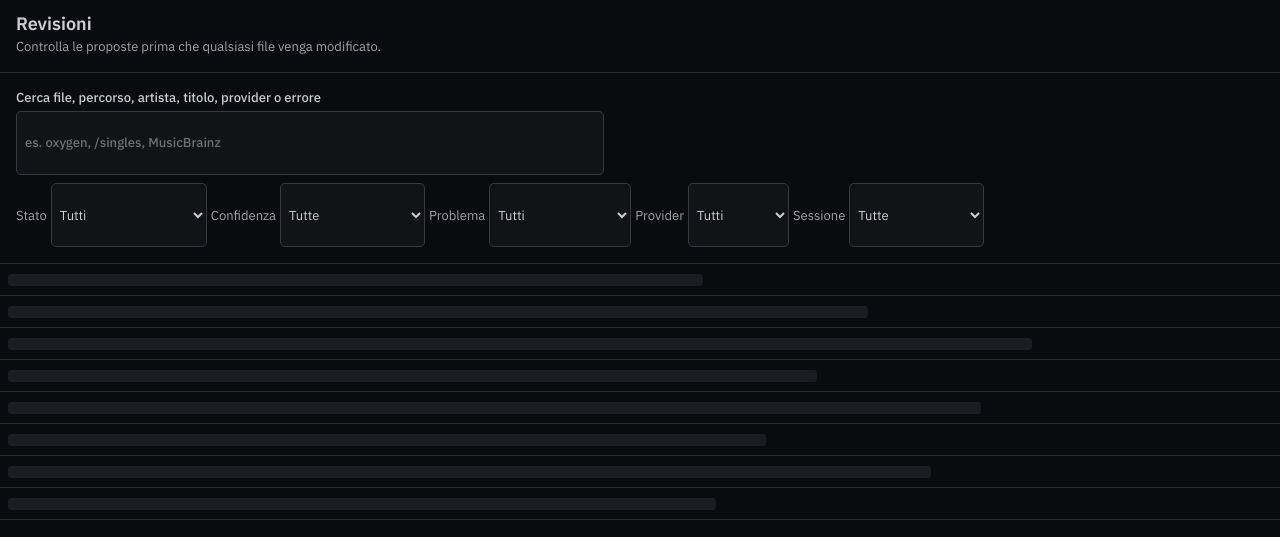
Test: ReviewInbox › exposes confidence, issue, source and session filters with URL state and chips
The width and height of the screenshot is (1280, 537).
Check: the dropdown labelled "Problema" is shown, box [489,183,631,247]
Check: the dropdown labelled "Provider" is shown, box [688,183,789,247]
Step 1. Select "High confidence" in the dropdown labelled "Confidenza" → (352, 215), box [280,183,425,247]
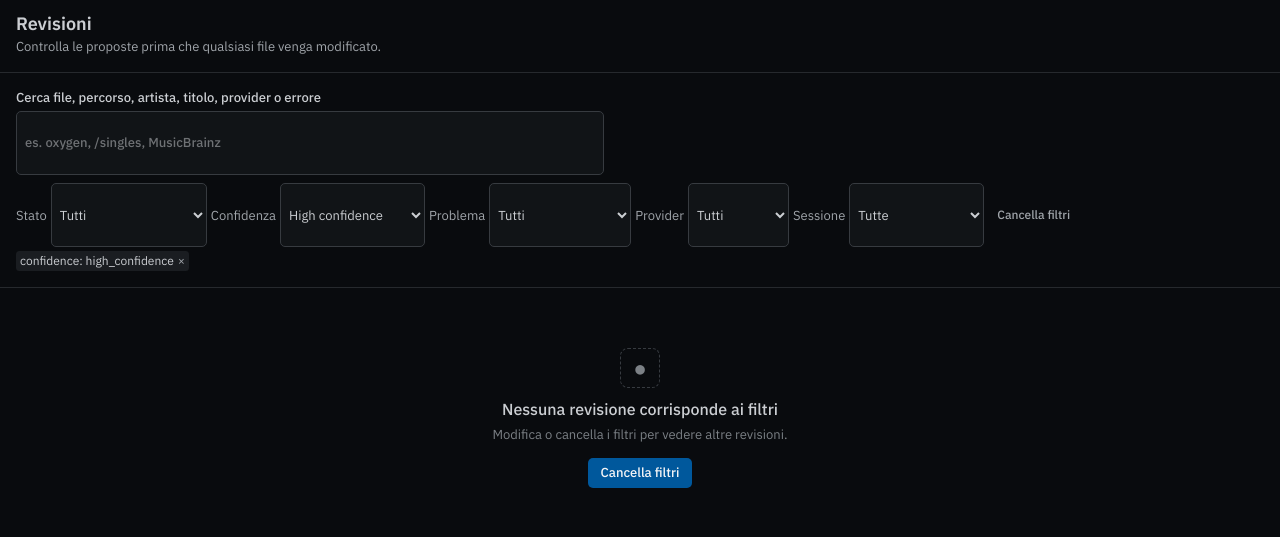
Check: the text "confidence: high_confidence" is shown, box [16,251,189,271]
Step 2. Click the button named "Rimuovi filtro confidence" → click(181, 261), box [178,253,185,269]
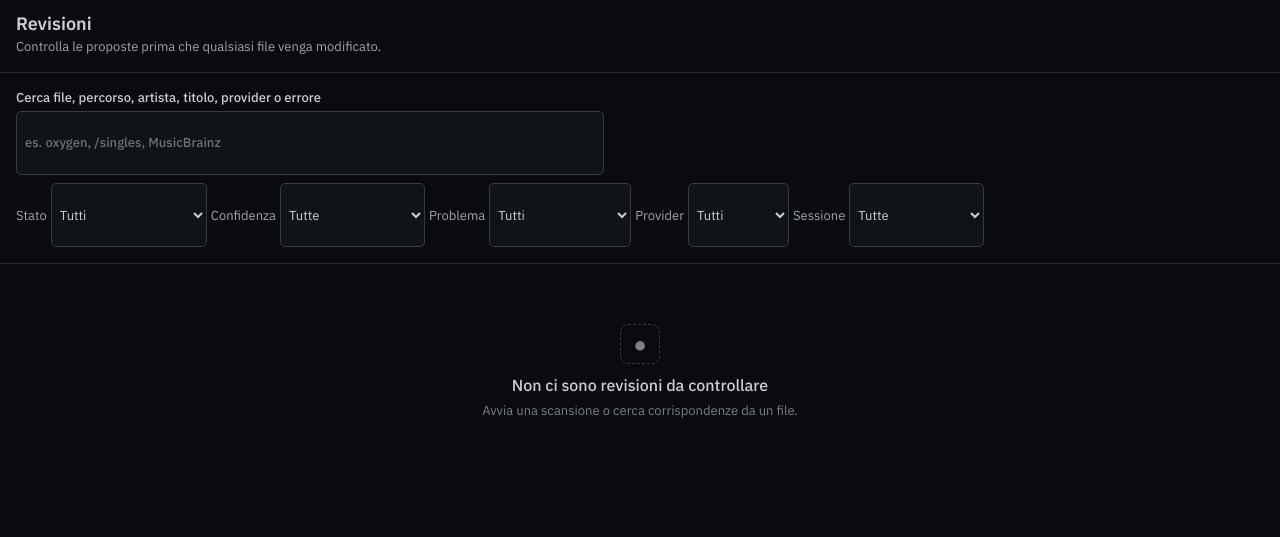
Check: the text "confidence: high_confidence" is gone
